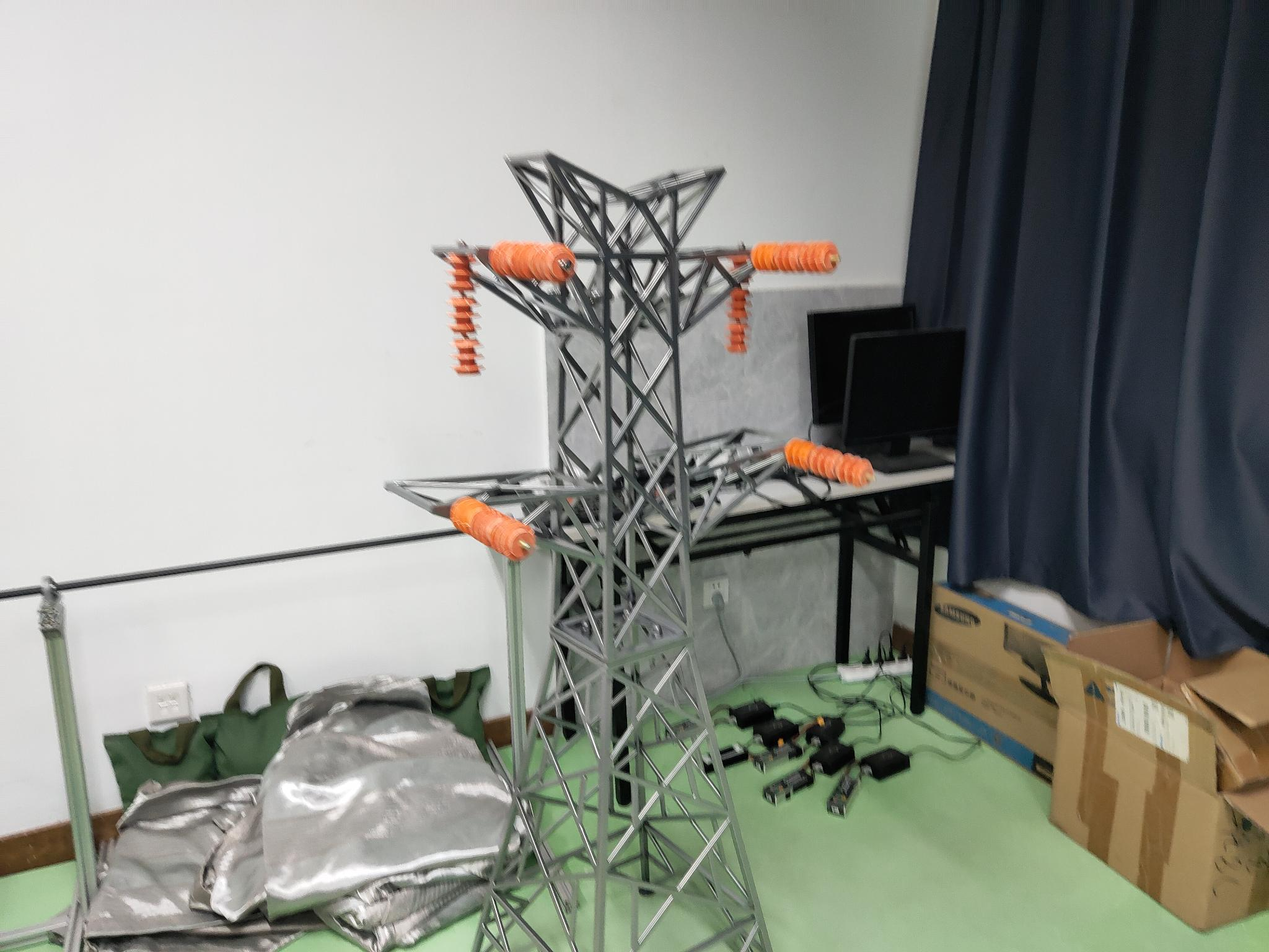tower: (395, 150, 807, 952)
